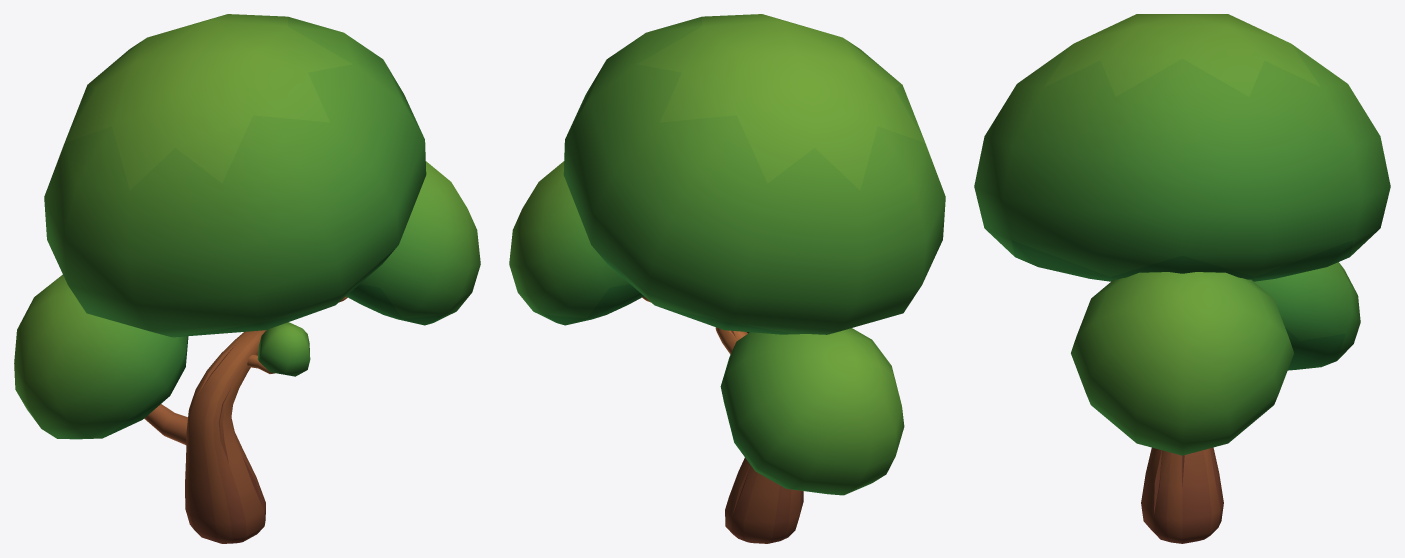
The model's file is tree-oak.glb.
3 renders of one model, left to right at view 1: azimuth 30°, elevation 25°; view 2: azimuth 150°, elevation 25°; view 3: azimuth 270°, elevation 25°, orthographic. The views are drawn at different scales.
Visible parts, largest first — view 1: tree.oak; view 2: tree.oak; view 3: tree.oak.
Boxes of the visible parts, <box> form: tree.oak: <box>14,14,480,543</box>; tree.oak: <box>509,14,945,543</box>; tree.oak: <box>974,14,1390,543</box>.
Bounding box in the file's own units: 6.69 × 7.81 × 5.75.
